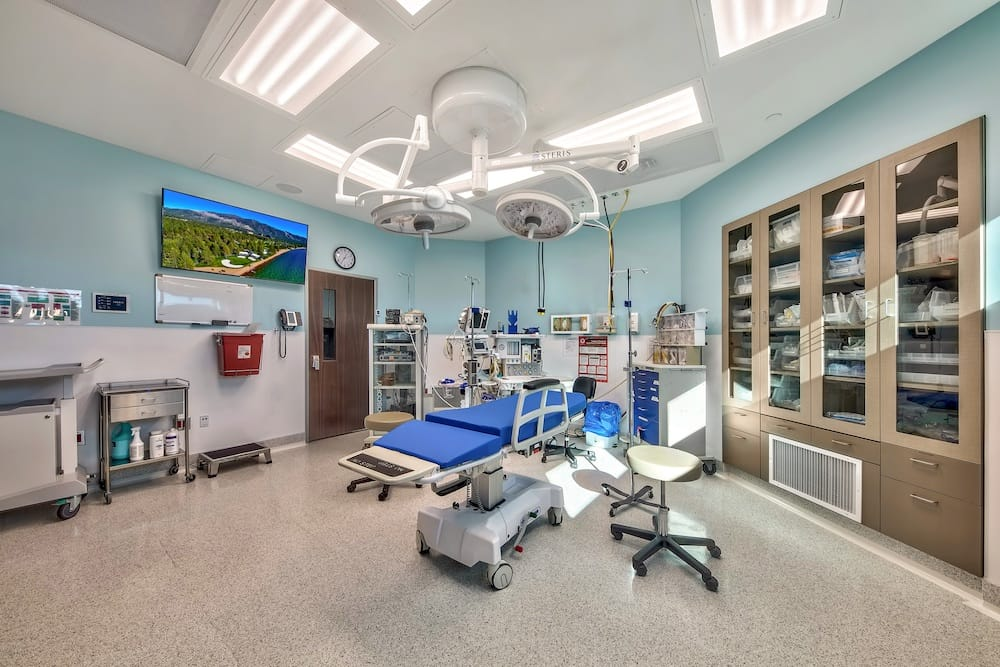bedrail: (512, 373, 571, 453)
cabinet: (716, 124, 984, 588), (366, 322, 427, 420)
chair: (603, 443, 724, 599), (347, 406, 419, 508)
dispenser: (130, 425, 147, 460)
door_handle: (312, 355, 325, 371)
handle: (909, 449, 941, 474), (909, 485, 942, 509), (830, 437, 857, 448), (883, 296, 894, 322), (773, 423, 797, 433), (862, 300, 873, 321), (730, 431, 749, 441), (760, 309, 768, 326), (749, 311, 757, 326), (141, 397, 156, 402), (143, 411, 158, 416), (637, 372, 648, 376), (637, 379, 648, 383), (637, 387, 648, 391), (637, 396, 648, 400), (637, 407, 648, 411)
iv_pole: (601, 266, 675, 519), (444, 271, 492, 405), (396, 265, 422, 315)
medical_drawer: (627, 359, 720, 477)
medical_waste_container: (211, 328, 268, 380)
operating_bed: (338, 375, 608, 590)
surgical_light: (366, 196, 476, 253), (491, 191, 577, 245)
telephone: (276, 308, 304, 361)
utility_cart: (88, 376, 203, 512)
waste_bin: (582, 399, 621, 449)
